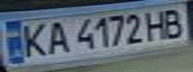1: (90, 14, 112, 48)
2: (124, 10, 148, 45)
4: (72, 16, 96, 51)
7: (106, 11, 127, 47)
A: (42, 18, 72, 55)
B: (157, 5, 190, 39)
H: (142, 7, 172, 42)
K: (18, 20, 51, 58)
